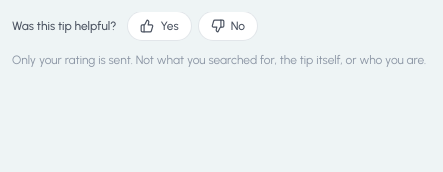
HealthTipFeedback › sends a thumbs-up in one tap and says thanks
Click the button "Yes" at (160, 26), box [128,12,191,40]
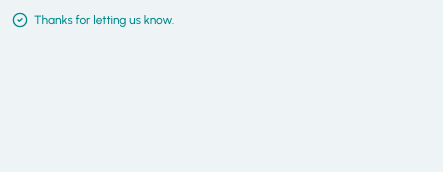
Now the text "Thanks for letting us know." is shown, box [12,12,174,28]
Now the button "Yes" is gone
